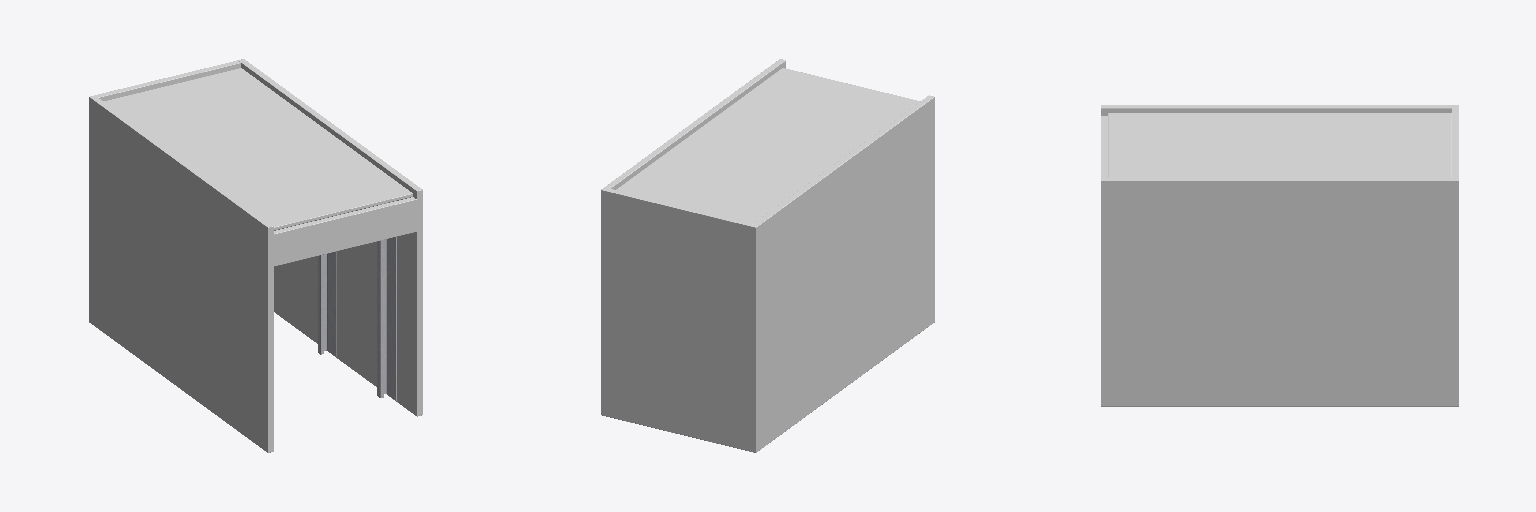
3 renders of one model, left to right at view 1: azimuth 30°, elevation 25°; view 2: azimuth 150°, elevation 25°; view 3: azimuth 270°, elevation 25°, orthographic.
Visible parts, largest first — view 1: SM_Kitchen_06_Base; view 2: SM_Kitchen_06_Base; view 3: SM_Kitchen_06_Base.
Part boxes in pixels (bbox=[...]): SM_Kitchen_06_Base: bbox=[89, 59, 422, 452]; SM_Kitchen_06_Base: bbox=[601, 59, 934, 452]; SM_Kitchen_06_Base: bbox=[1101, 105, 1458, 406].
Bounding box in the file's own units: 0.3996 × 0.5549 × 0.798.
Materials: 2 (2 with a texture image).